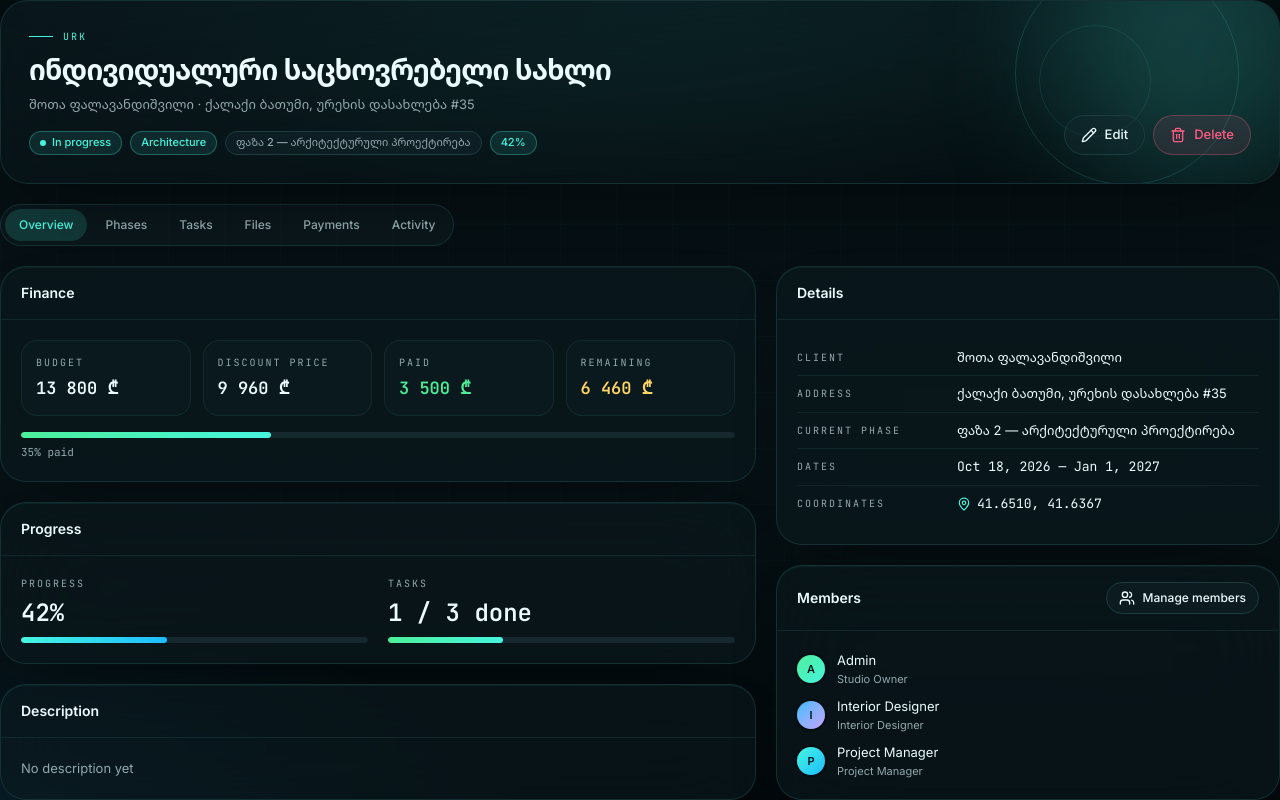
it: ProjectDetailPage › loads tasks in the Tasks tab
The image size is (1280, 800).
Click the tab "Tasks" at (196, 225), box [165,209,227,241]
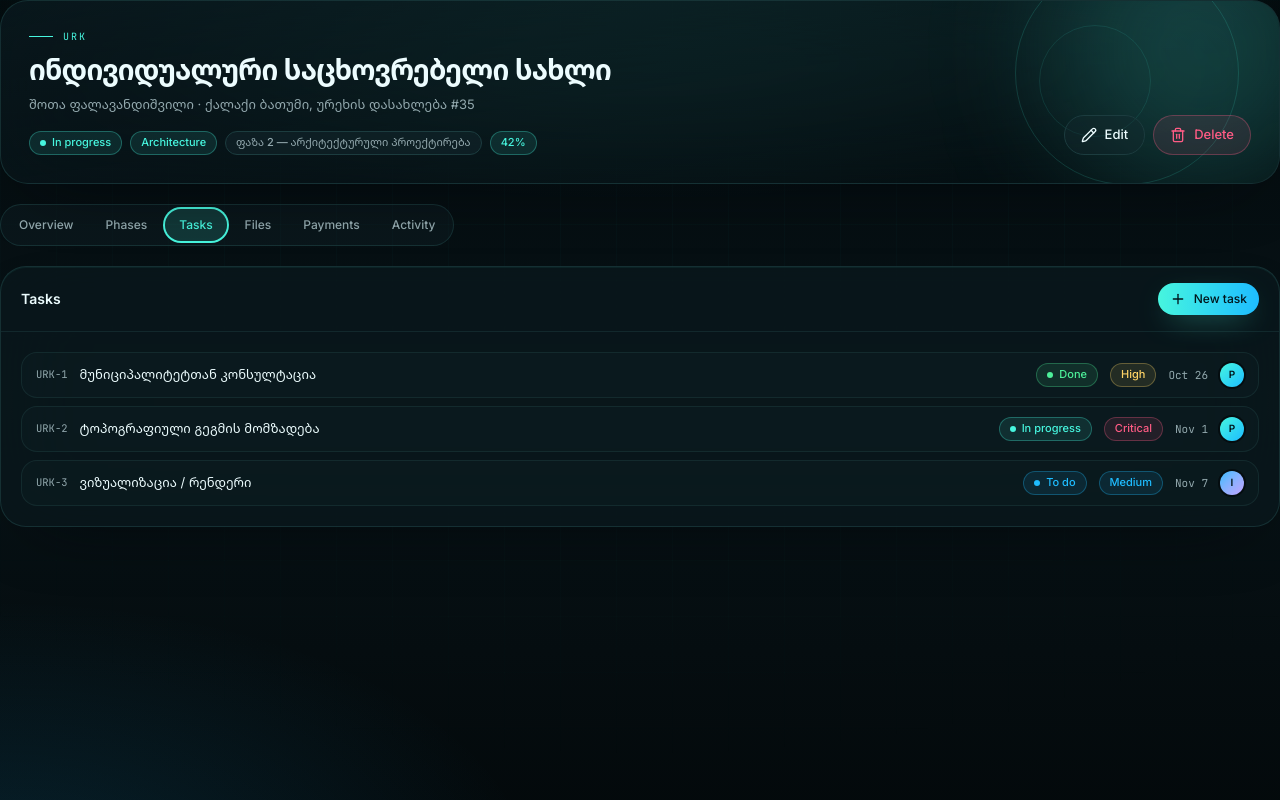
Check: the text "ვიზუალიზაცია / რენდერი" is shown, box [80,474,251,490]
